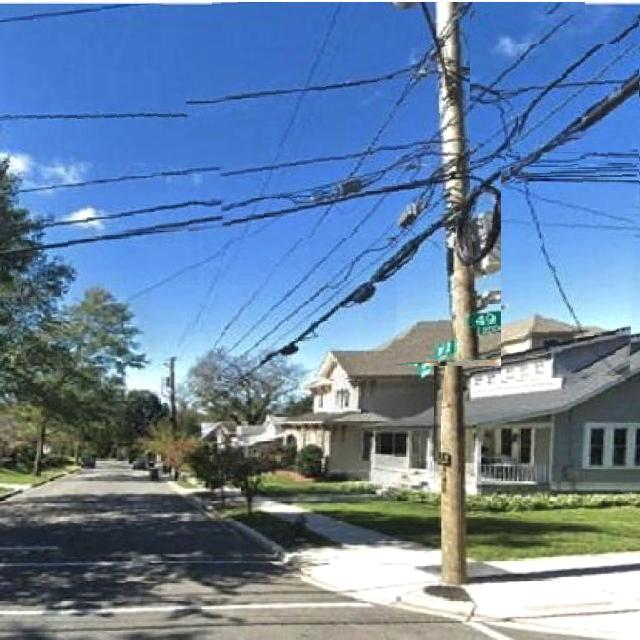pole: (434, 4, 457, 586)
transformer: (446, 230, 499, 291)
wire: (225, 2, 570, 375), (265, 91, 638, 362), (215, 4, 480, 329), (190, 3, 344, 332), (501, 99, 632, 378), (0, 187, 430, 263), (3, 163, 410, 236), (470, 17, 639, 167), (221, 239, 398, 379), (2, 152, 461, 197), (519, 44, 639, 141), (450, 163, 639, 215), (2, 98, 418, 121), (0, 4, 161, 25), (507, 152, 639, 165), (516, 178, 640, 185), (529, 169, 639, 176)
